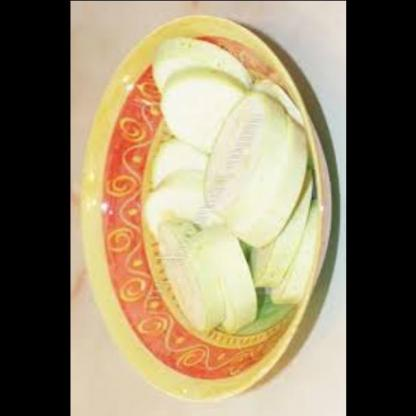vegetable marrow: (127, 25, 333, 336)
